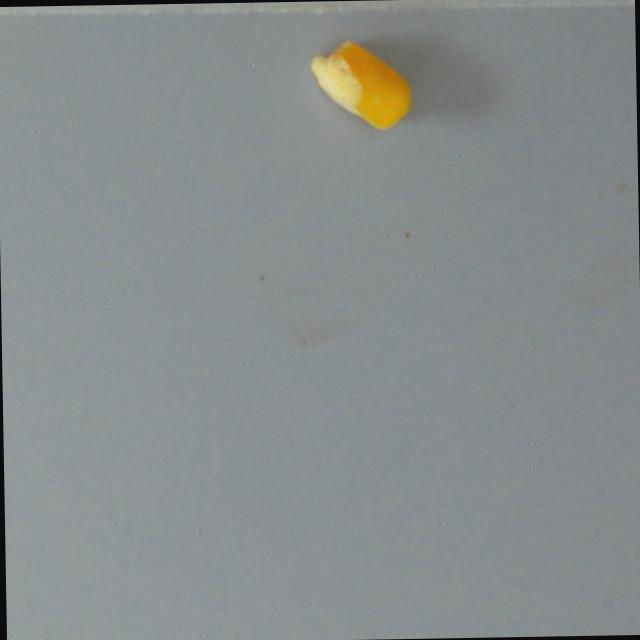dañado: (302, 35, 417, 134)
